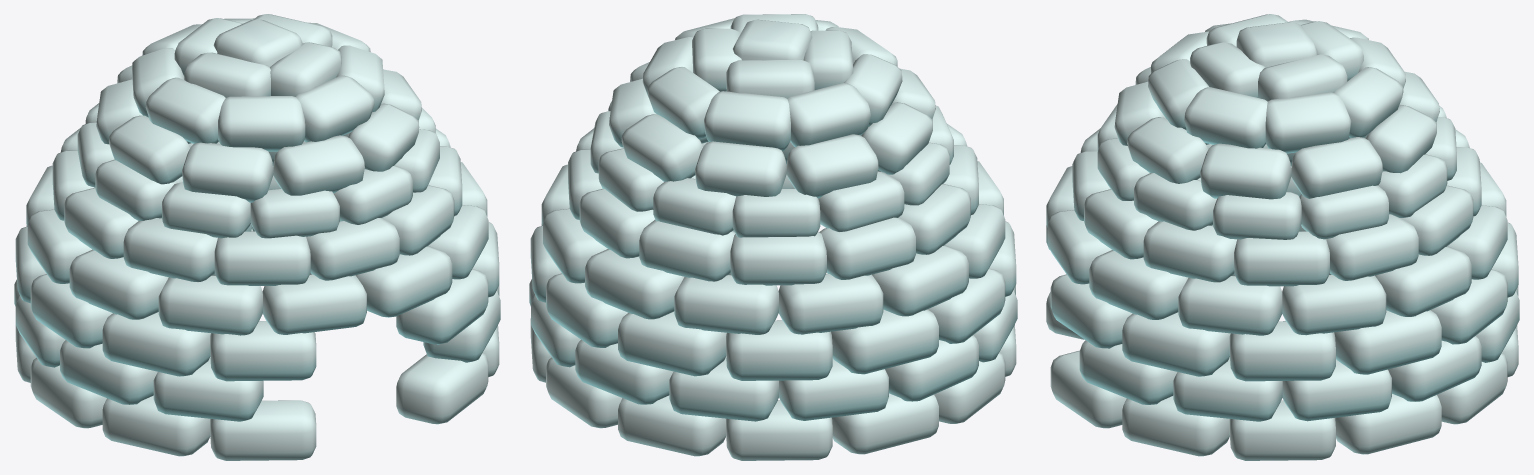
Rendered from Igloo_01.fbx.
3 renders of one model, left to right at view 1: azimuth 30°, elevation 25°; view 2: azimuth 150°, elevation 25°; view 3: azimuth 270°, elevation 25°, orthographic.
Parts seen in each view (by area): view 1: Igloo_01; view 2: Igloo_01; view 3: Igloo_01.
Boxes of the visible parts, <box> form: Igloo_01: <box>14,14,500,460</box>; Igloo_01: <box>529,14,1017,460</box>; Igloo_01: <box>1046,14,1519,460</box>.
Size of the model in its own units: 393 by 295 by 383.
